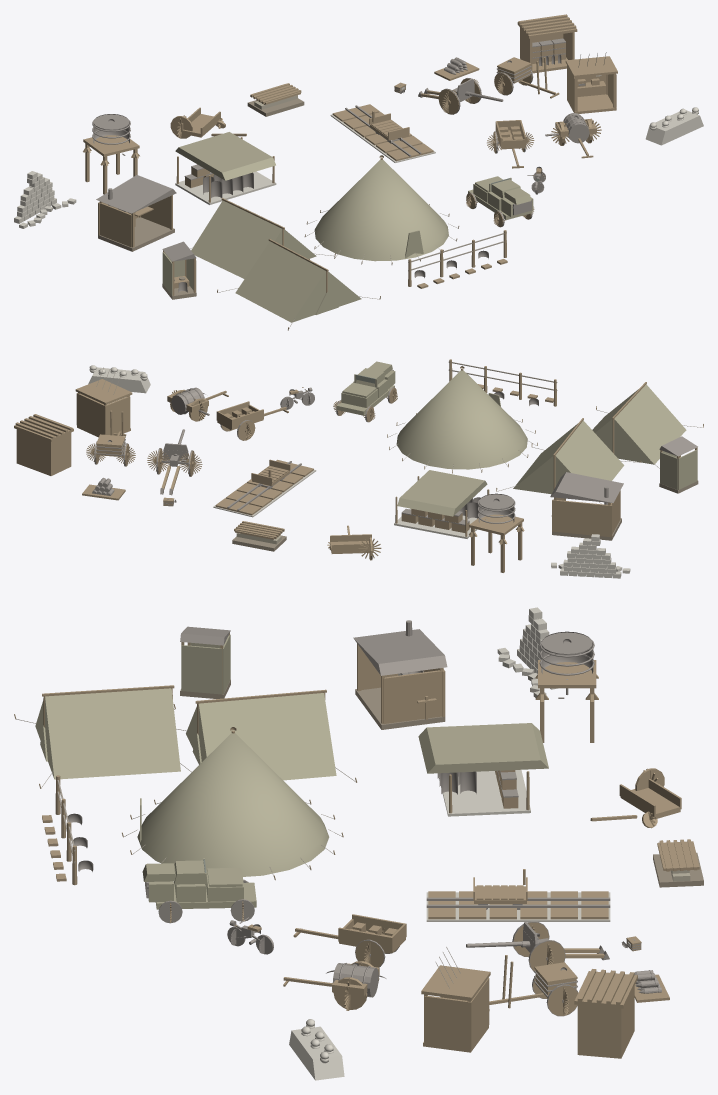
Rendered from trench-line-1917-rear-area-0970773a__24131.glb.
The picture shows the model from 3 angles, top to bottom: view 1: azimuth 30°, elevation 25°; view 2: azimuth 150°, elevation 25°; view 3: azimuth 270°, elevation 25°; orthographic projection. The views are drawn at different scales.
Visible parts, largest first — view 1: 013-bell-tent/1, 015-ridge-tent/0, 014-ridge-tent/0, 000-supply-dump/3, 024-ammunition-bay/1, 019-kitchen-shelter/2, 019-kitchen-shelter/3, 025-ruined-wall/0, 023-signal-post-dugout/0, 017-staff-car/2, 001-water-tank/0, 028-spoil-heap/0 (+16 smaller); view 2: 013-bell-tent/1, 015-ridge-tent/0, 014-ridge-tent/0, 000-supply-dump/3, 019-kitchen-shelter/2, 023-signal-post-dugout/0, 025-ruined-wall/0, 024-ammunition-bay/1, 019-kitchen-shelter/3, 017-staff-car/2, 001-water-tank/0, 020-trench-latrine/2 (+25 smaller); view 3: 013-bell-tent/1, 015-ridge-tent/0, 014-ridge-tent/0, 000-supply-dump/3, 024-ammunition-bay/1, 017-staff-car/2, 019-kitchen-shelter/2, 023-signal-post-dugout/0, 019-kitchen-shelter/3, 020-trench-latrine/2, 000-supply-dump/0, 026-ruined-cart/0 (+19 smaller).
Part boxes in pixels (left/top/right/bottom): 013-bell-tent/1: left=314, top=159, right=448, bottom=261; 015-ridge-tent/0: left=235, top=241, right=361, bottom=322; 014-ridge-tent/0: left=191, top=200, right=316, bottom=278; 000-supply-dump/3: left=175, top=132, right=275, bottom=180; 024-ammunition-bay/1: left=517, top=14, right=577, bottom=70; 019-kitchen-shelter/2: left=98, top=196, right=169, bottom=247; 019-kitchen-shelter/3: left=96, top=175, right=176, bottom=213; 025-ruined-wall/0: left=14, top=171, right=76, bottom=228; 023-signal-post-dugout/0: left=567, top=65, right=616, bottom=113; 017-staff-car/2: left=468, top=177, right=533, bottom=220; 001-water-tank/0: left=83, top=135, right=139, bottom=194; 028-spoil-heap/0: left=645, top=107, right=703, bottom=145; 013-bell-tent/1: left=396, top=370, right=527, bottom=469; 015-ridge-tent/0: left=592, top=384, right=686, bottom=464; 014-ridge-tent/0: left=513, top=420, right=624, bottom=494; 000-supply-dump/3: left=397, top=470, right=487, bottom=516; 019-kitchen-shelter/2: left=551, top=490, right=620, bottom=537; 023-signal-post-dugout/0: left=76, top=393, right=130, bottom=437; 025-ruined-wall/0: left=551, top=534, right=630, bottom=578; 024-ammunition-bay/1: left=14, top=414, right=73, bottom=473; 019-kitchen-shelter/3: left=550, top=472, right=623, bottom=504; 017-staff-car/2: left=336, top=361, right=395, bottom=415; 001-water-tank/0: left=469, top=514, right=524, bottom=572; 020-trench-latrine/2: left=660, top=449, right=697, bottom=489; 013-bell-tent/1: left=137, top=733, right=329, bottom=876; 015-ridge-tent/0: left=35, top=688, right=180, bottom=779; 014-ridge-tent/0: left=186, top=693, right=336, bottom=780; 000-supply-dump/3: left=418, top=723, right=548, bottom=773; 024-ammunition-bay/1: left=574, top=969, right=637, bottom=1055; 017-staff-car/2: left=142, top=858, right=256, bottom=909; 019-kitchen-shelter/2: left=361, top=649, right=445, bottom=723; 023-signal-post-dugout/0: left=423, top=978, right=489, bottom=1052; 019-kitchen-shelter/3: left=353, top=620, right=447, bottom=675; 020-trench-latrine/2: left=181, top=634, right=230, bottom=694; 000-supply-dump/0: left=439, top=769, right=530, bottom=816; 026-ruined-cart/0: left=590, top=768, right=681, bottom=828.
Bounding box in the file's own units: 36.43 × 4.35 × 24.8.
